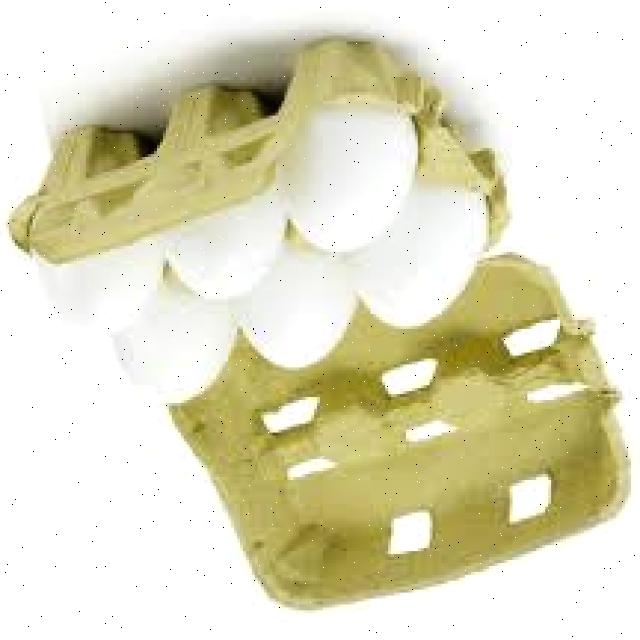White Egg: (342, 168, 473, 344), (289, 109, 420, 257), (156, 194, 290, 300), (12, 239, 157, 335), (114, 291, 238, 403), (230, 266, 363, 366)
